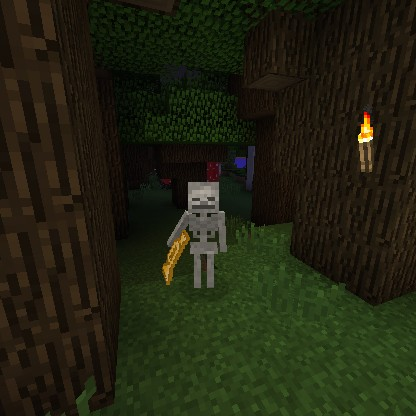skeleton: (181, 178, 235, 241)
